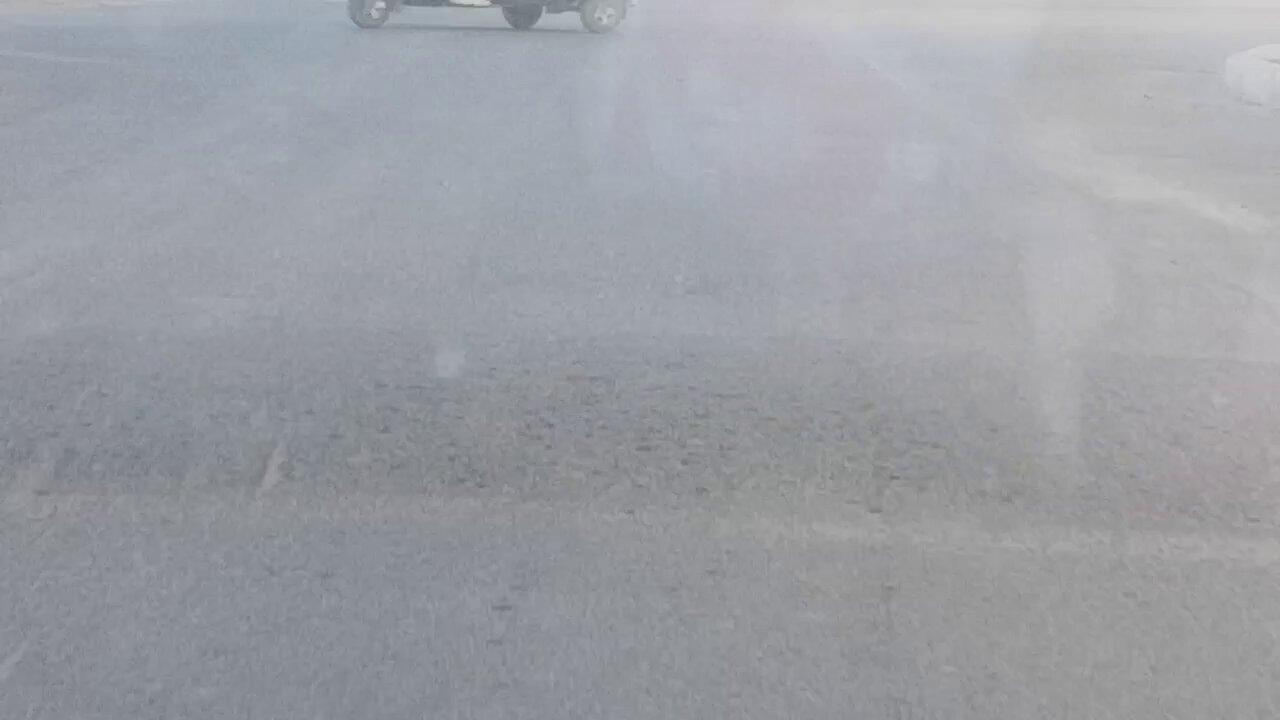Bump: (0, 304, 1280, 573)
